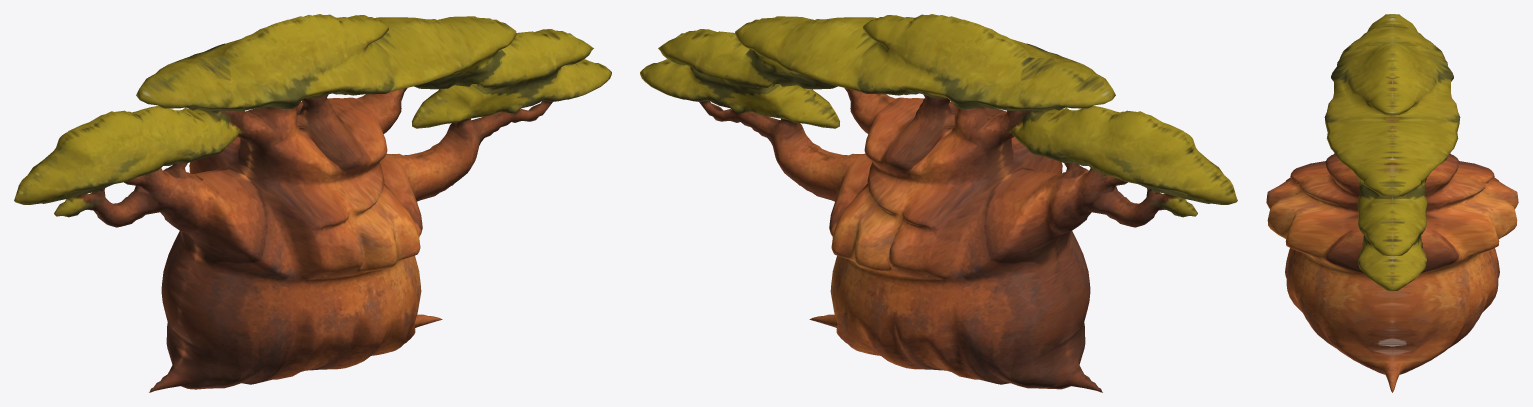
Rendered from 25_trees_d_r01_c01.glb.
3 renders of one model, left to right at view 1: azimuth 30°, elevation 25°; view 2: azimuth 150°, elevation 25°; view 3: azimuth 270°, elevation 25°, orthographic. The views are drawn at different scales.
Visible parts, largest first — view 1: 25_trees_d_r01_c01; view 2: 25_trees_d_r01_c01; view 3: 25_trees_d_r01_c01.
Part boxes in pixels (x1,y1,x2,y2): 25_trees_d_r01_c01: [14, 14, 611, 392]; 25_trees_d_r01_c01: [640, 14, 1237, 392]; 25_trees_d_r01_c01: [1266, 14, 1518, 392].
Size of the model in its own units: 9 by 4.92 by 3.96.
Materials: 1 (1 with a texture image).
